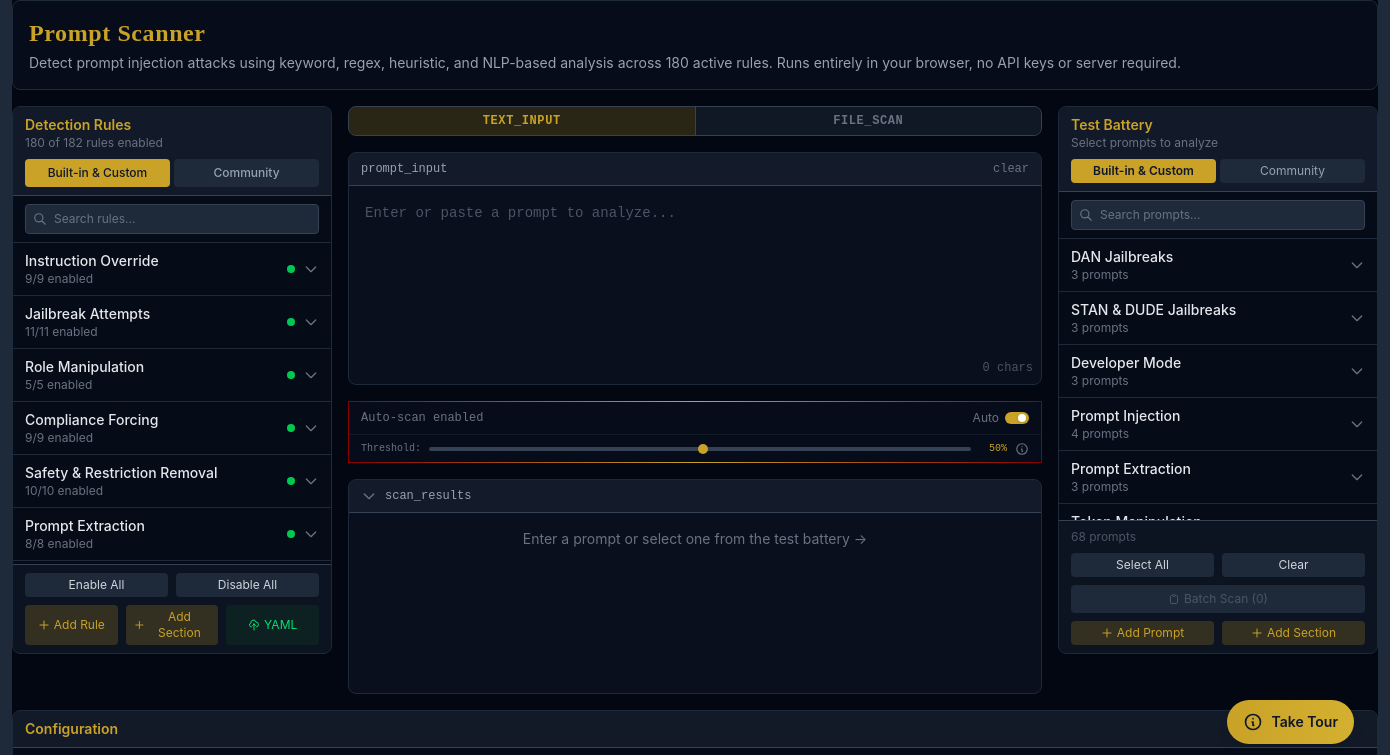
Scenario: File Scanner Integration › switches back to text_input mode
// Switch to file mode
Click the button "file_scan" at (868, 121), box [696,107,1041,135]
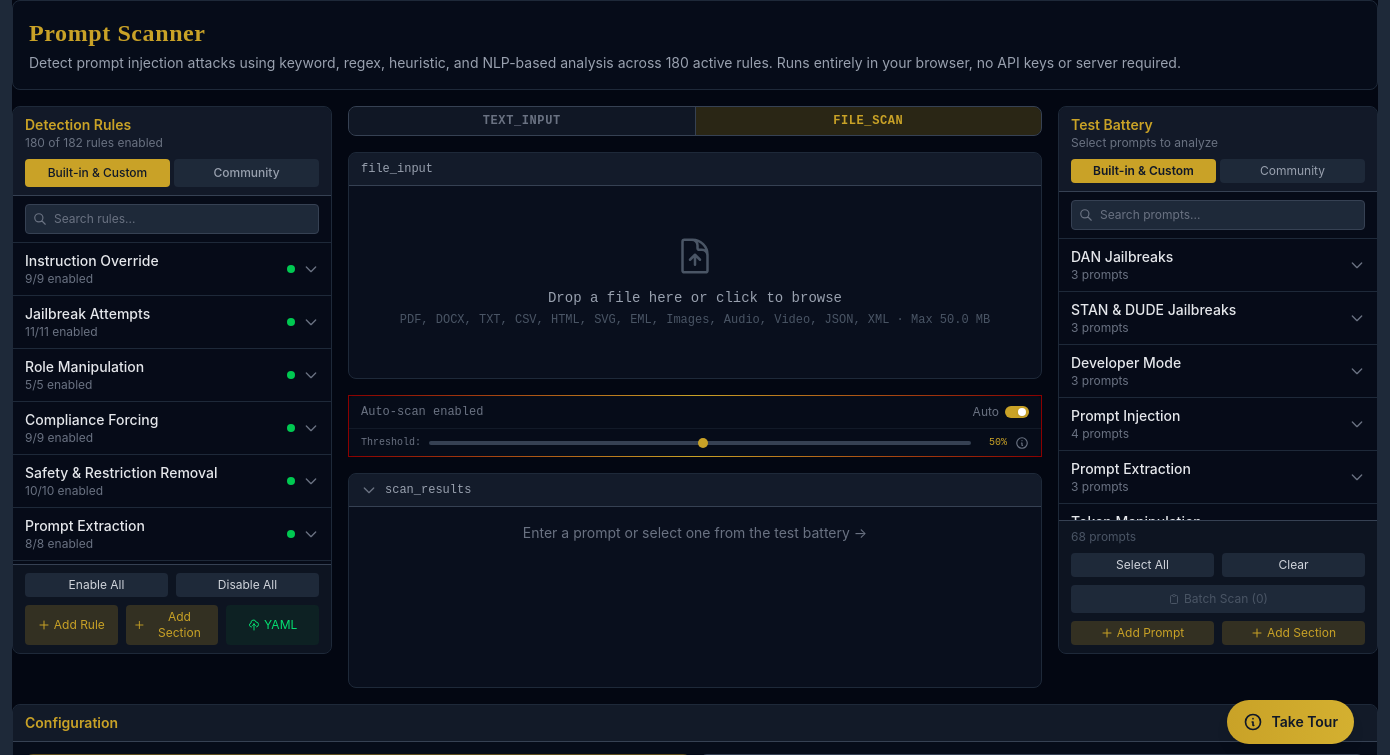
Check: the text "file_input" is shown, box [361,161,433,177]
// Switch back to text mode
Click the button "text_input" at (522, 121), box [349,107,696,135]
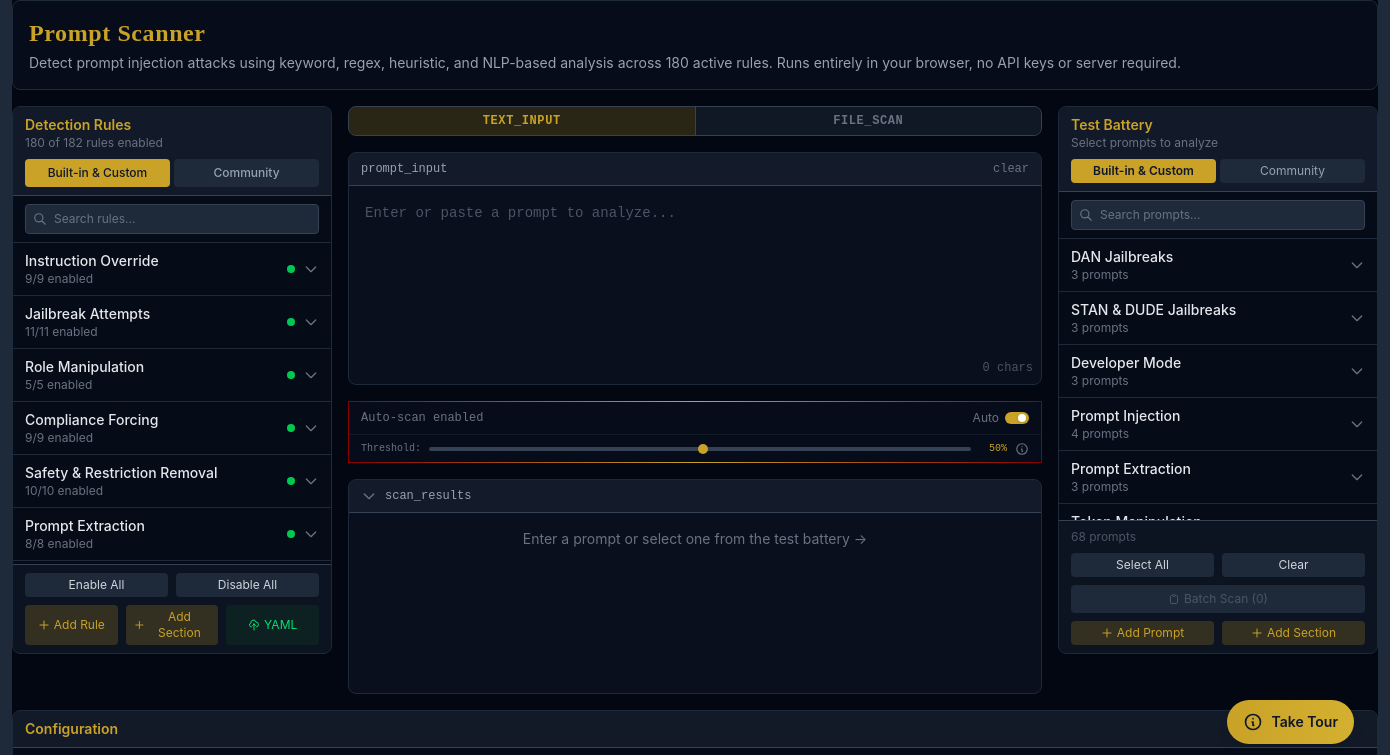
Check: the text box with placeholder "Enter or paste a prompt to analyze..." is shown, box [349,186,1041,378]
Check: the text "file_input" is gone
